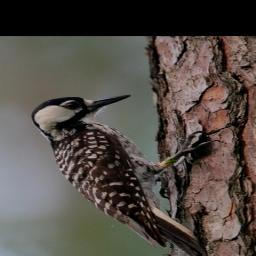Woodpecker: (31, 94, 220, 256)
